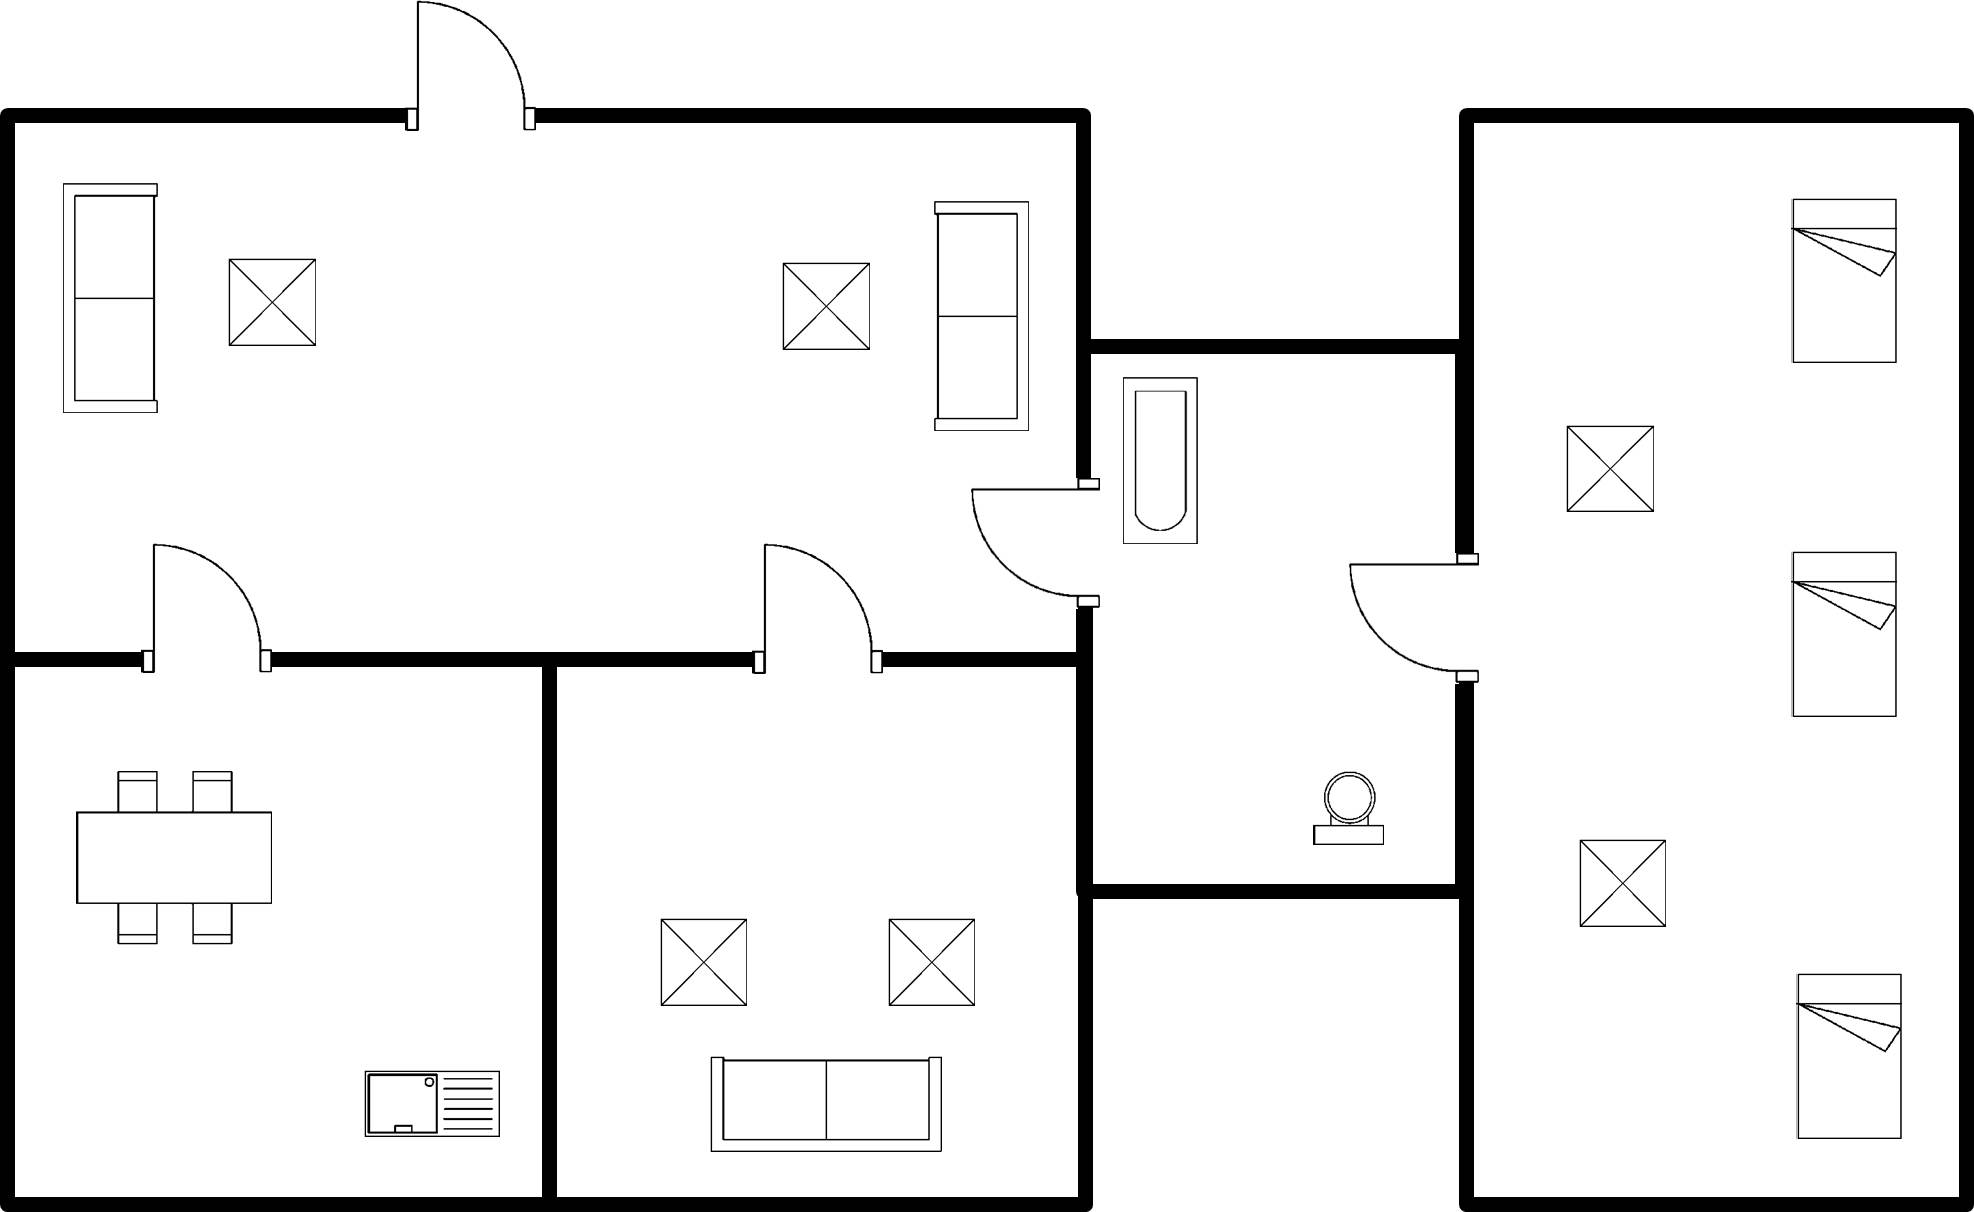bed: (1777, 541, 1911, 733), (1781, 962, 1914, 1149), (1780, 185, 1905, 379)
coffee_table: (1550, 410, 1670, 524), (763, 251, 881, 361), (874, 903, 984, 1021), (1566, 830, 1680, 941), (215, 249, 326, 359), (647, 911, 759, 1017)
dining_table: (61, 758, 285, 952)
large_sink: (1302, 761, 1397, 859)
large_sofa: (46, 171, 178, 421), (699, 1045, 953, 1164), (922, 192, 1040, 444)
sink: (354, 1064, 512, 1148)
tub: (1112, 368, 1211, 554)
